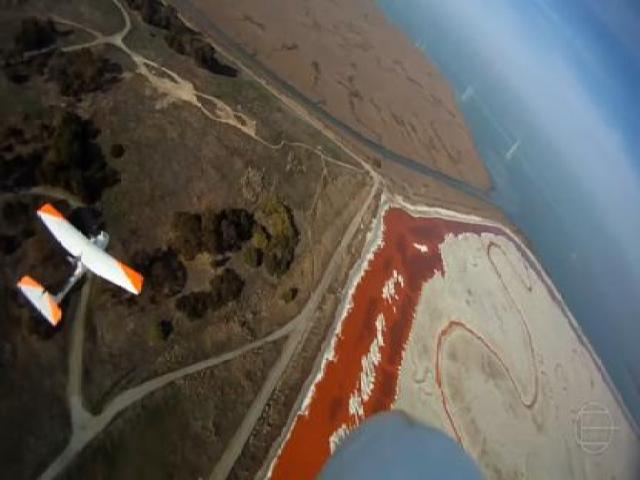uav: (10, 195, 150, 333)
